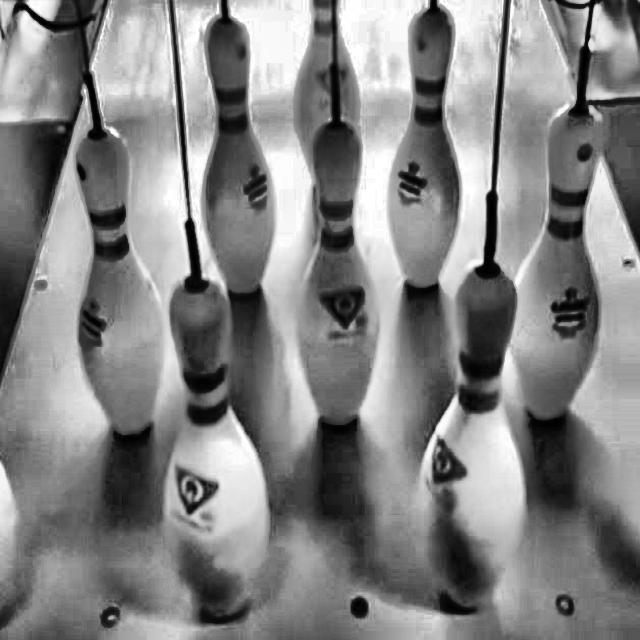bowling-pins: (424, 267, 526, 610), (164, 281, 267, 620), (513, 89, 603, 420), (74, 126, 164, 435), (298, 121, 380, 426), (389, 0, 462, 287), (297, 0, 332, 171), (340, 38, 359, 123)
